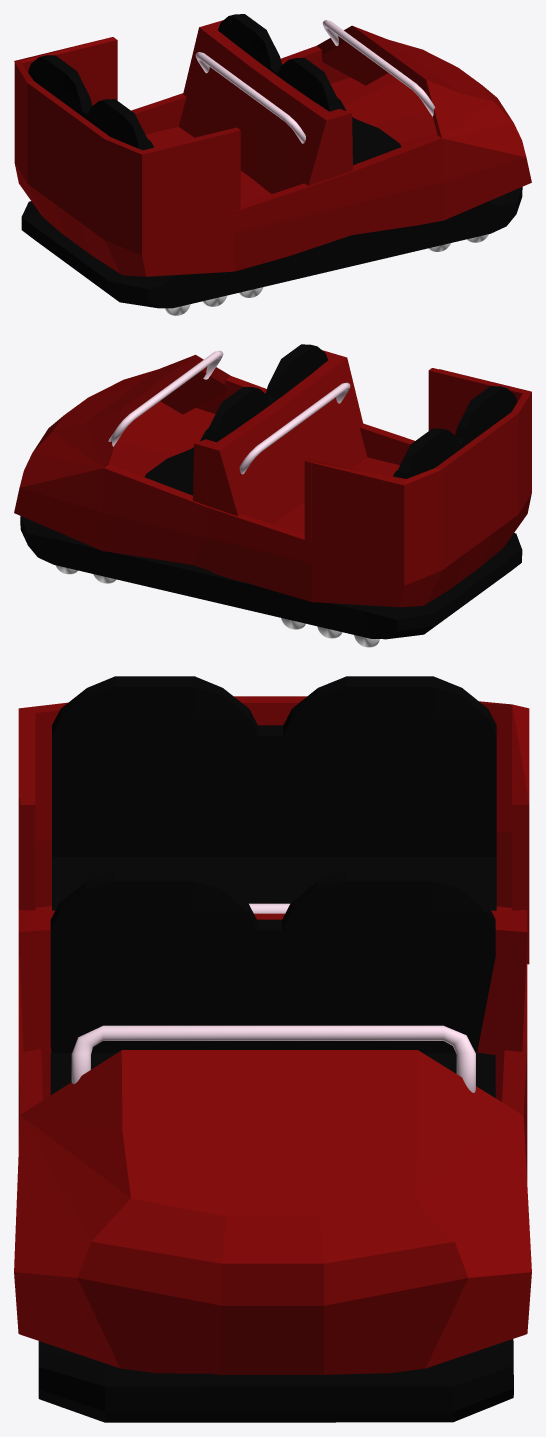
The model's file is cartRollercoaster.fbx.
3 views of the same model, one above another, from view 1: azimuth 30°, elevation 25°; view 2: azimuth 150°, elevation 25°; view 3: azimuth 270°, elevation 25° (orthographic). The views are drawn at different scales.
Parts seen in each view (by area): view 1: wheels; view 2: wheels; view 3: wheels.
Boxes of the visible parts, x1,y1,x2,y2 form: wheels: (14, 14, 531, 315); wheels: (14, 344, 531, 647); wheels: (14, 676, 531, 1422).
Bounding box in the file's own units: 379 × 173 × 204.
